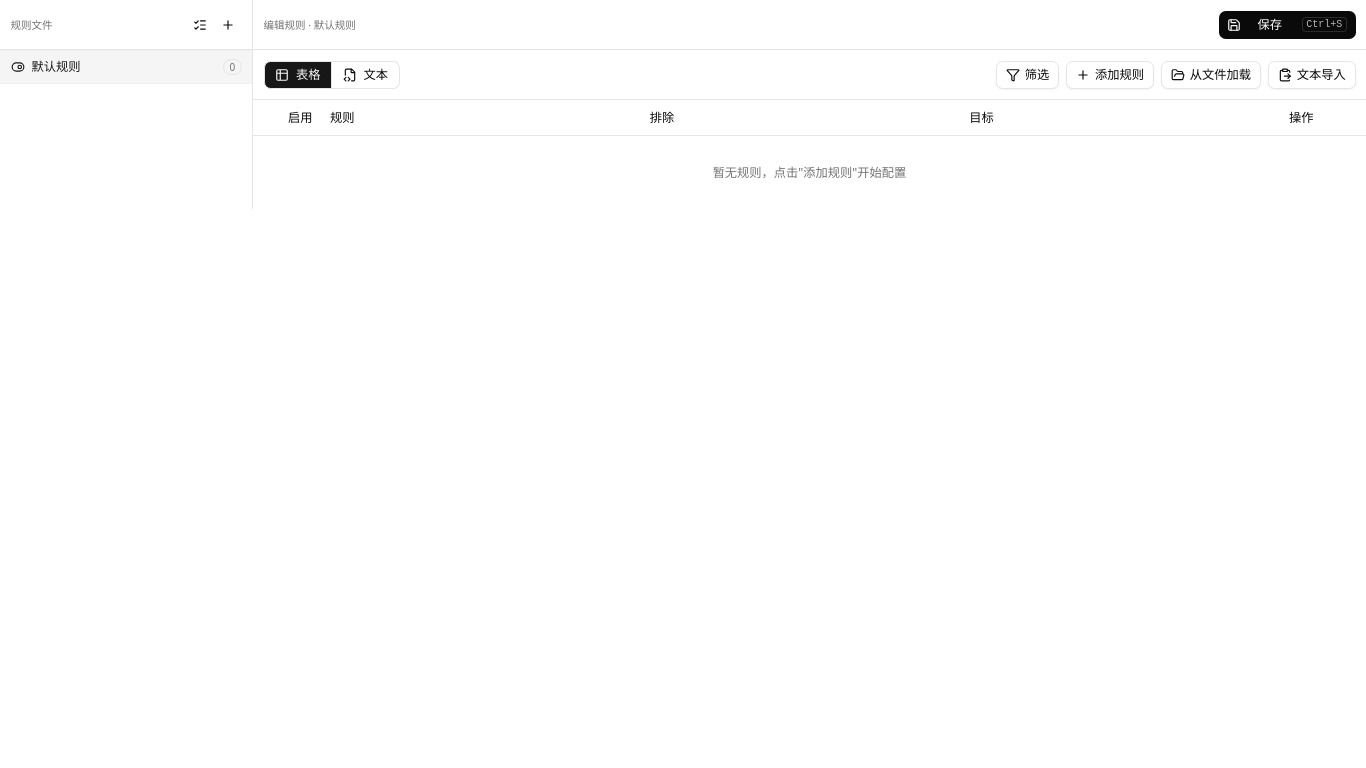
Test: RuleConfig file creation › accepts typed rule text in the import dialog
The width and height of the screenshot is (1366, 768).
Click the button "文本导入" at coordinates (1312, 74), box [1268,60,1356,88]
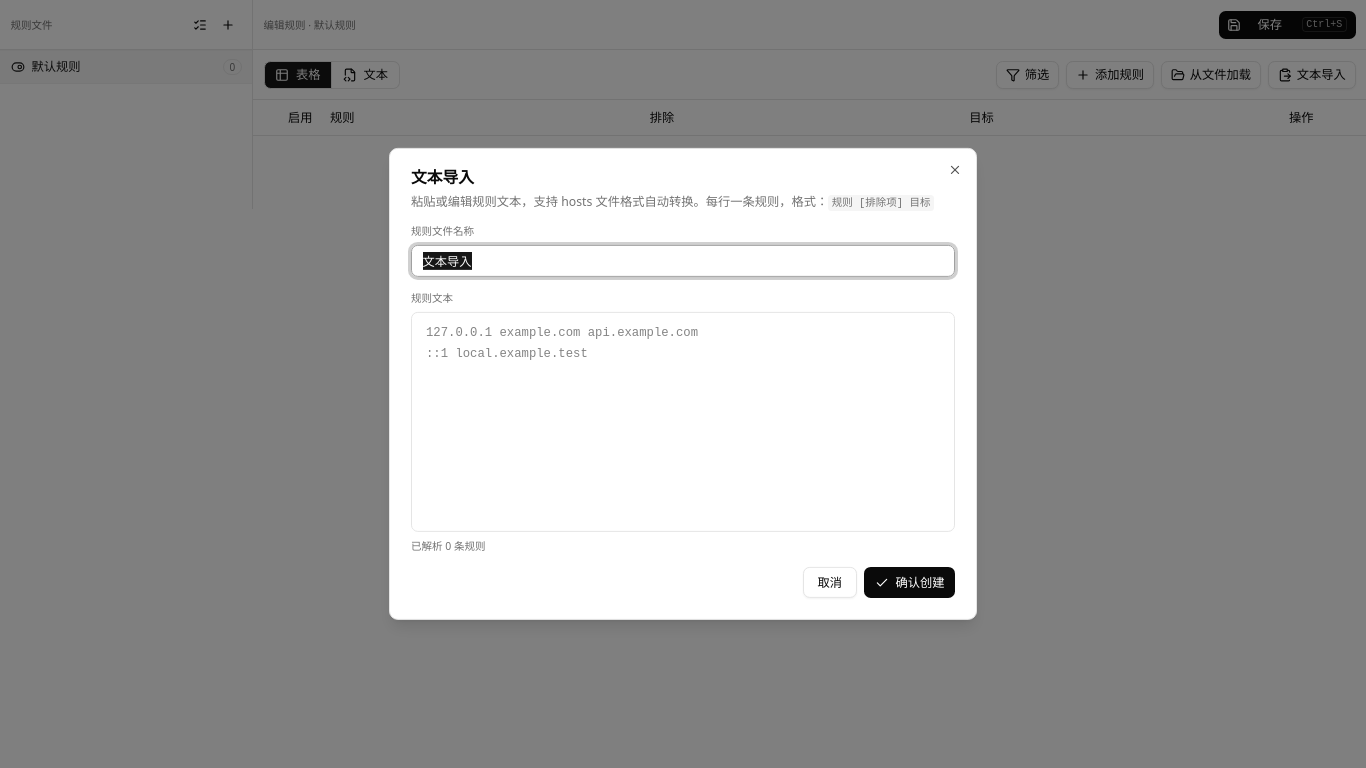
Type "example.com localhost:3000" into the text box named "导入规则文本" at coordinates (683, 422), box [412,313,954,531]
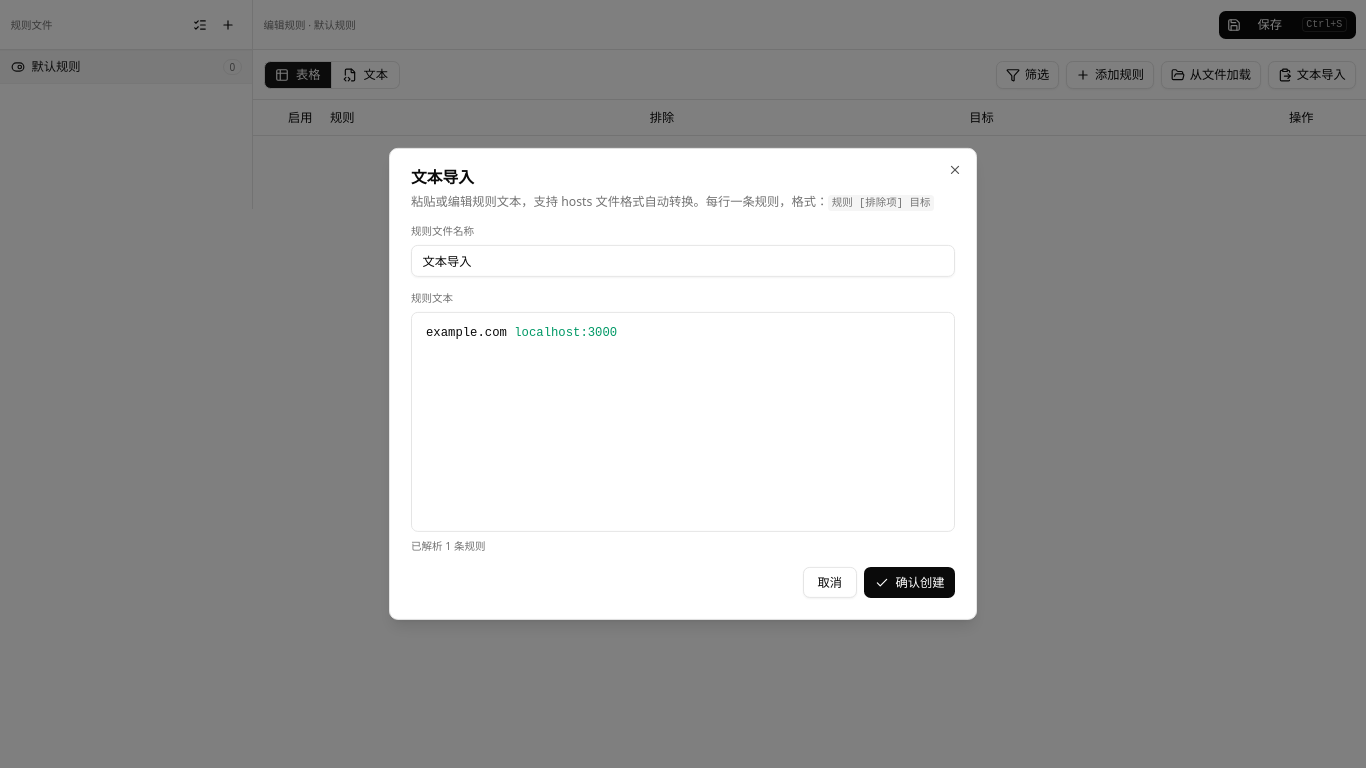
Check: the text "已解析 1 条规则" is shown, box [411,539,486,553]
